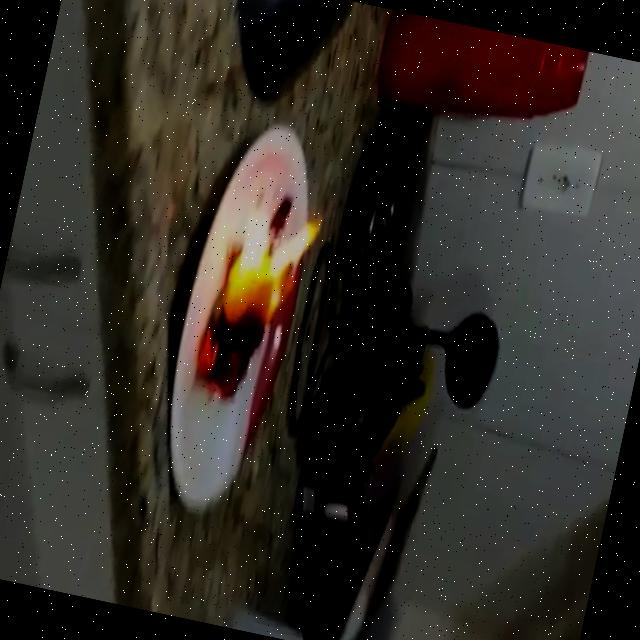fire: (184, 194, 329, 419)
